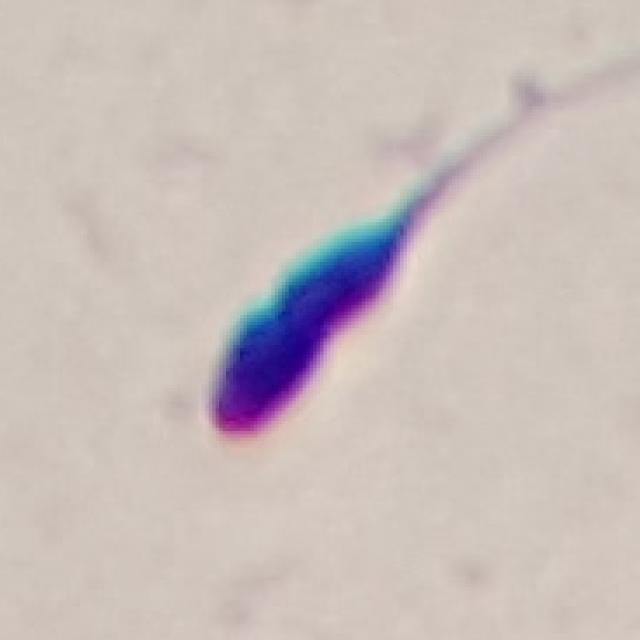abnormal sperm: (186, 104, 529, 444)
